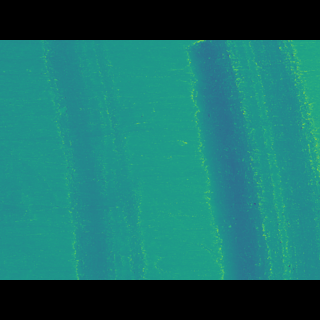Loch: (185, 69, 320, 249), (37, 70, 149, 249)
